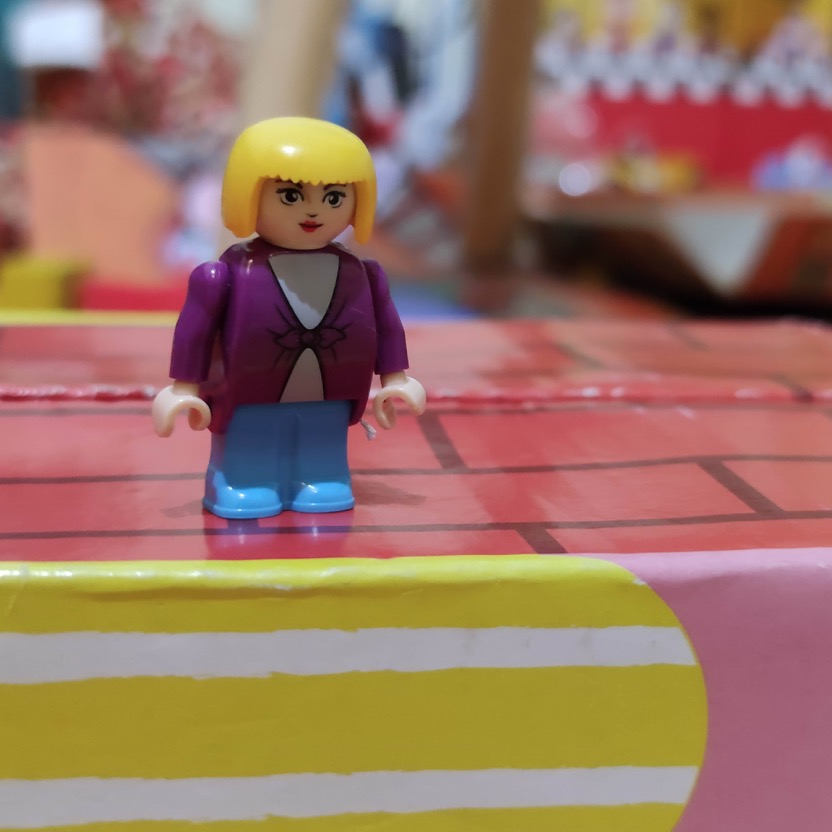lego: (149, 114, 427, 519)
